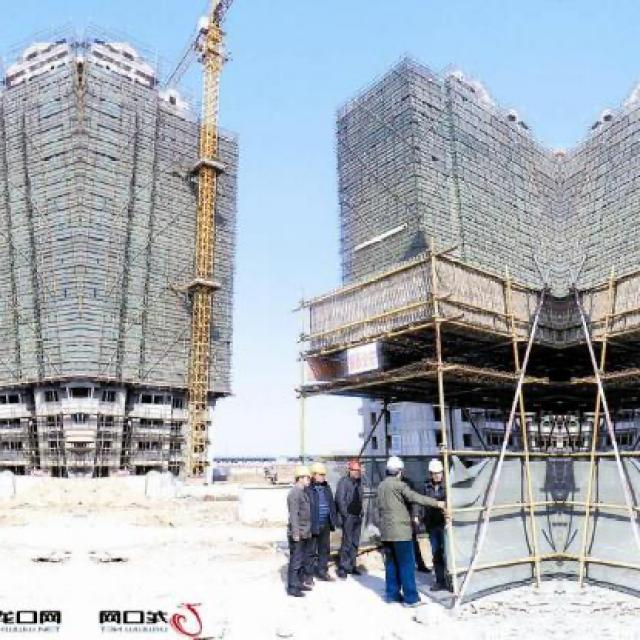helmet: (382, 454, 410, 481), (424, 454, 446, 484), (292, 464, 314, 494), (310, 456, 330, 486), (342, 454, 362, 478)
